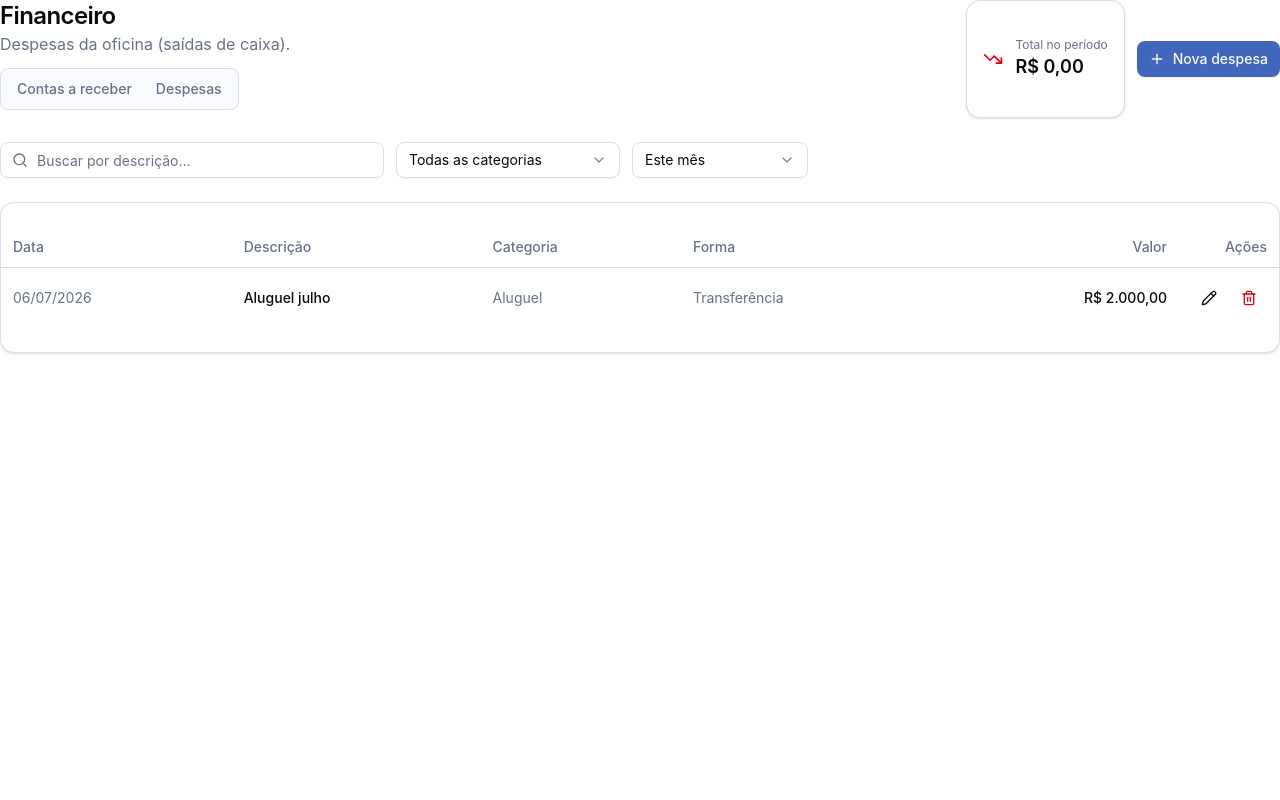
it: ExpensesPage › opens the new-expense dialog
Expected: the text "Aluguel julho" is shown, [232,267,481,328]
Click the button "Nova despesa" at (1208, 59), box [1137,41,1279,77]
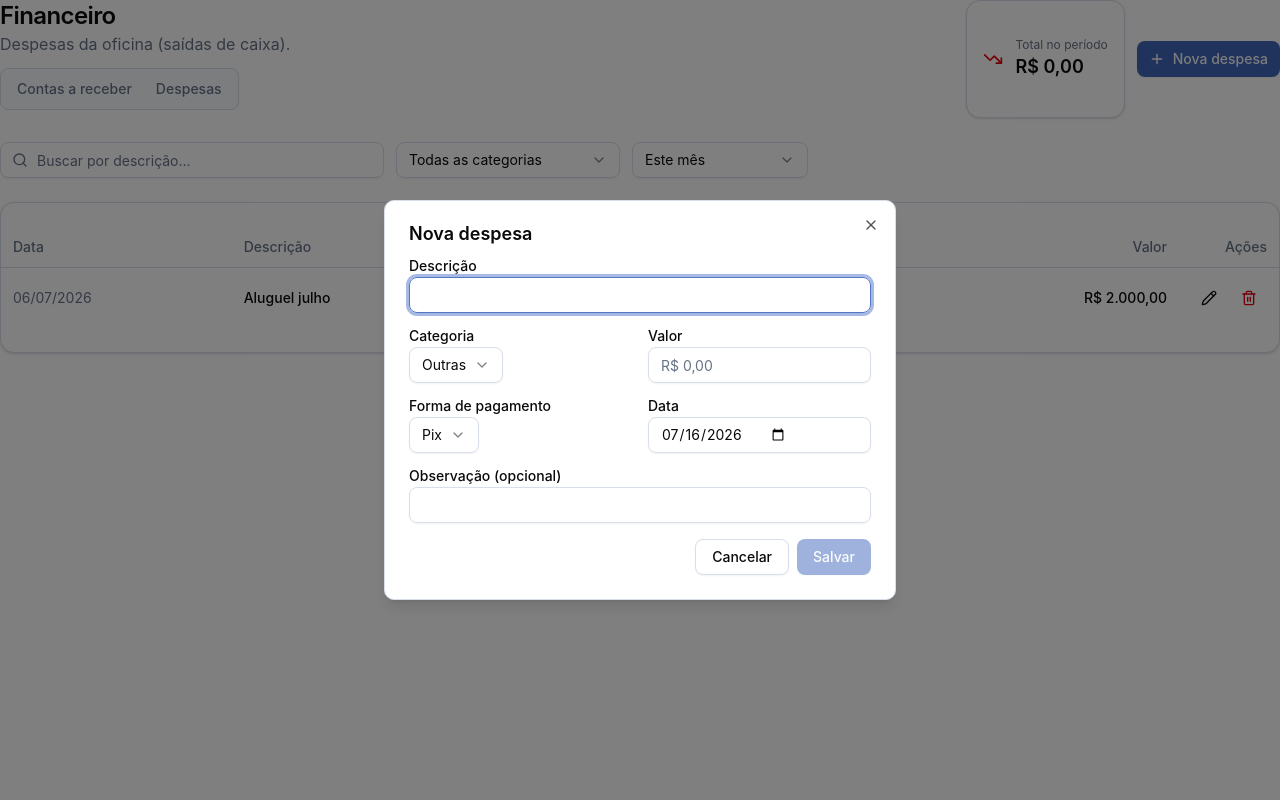
Expected: the heading "Nova despesa" is shown, [409,223,532,244]
